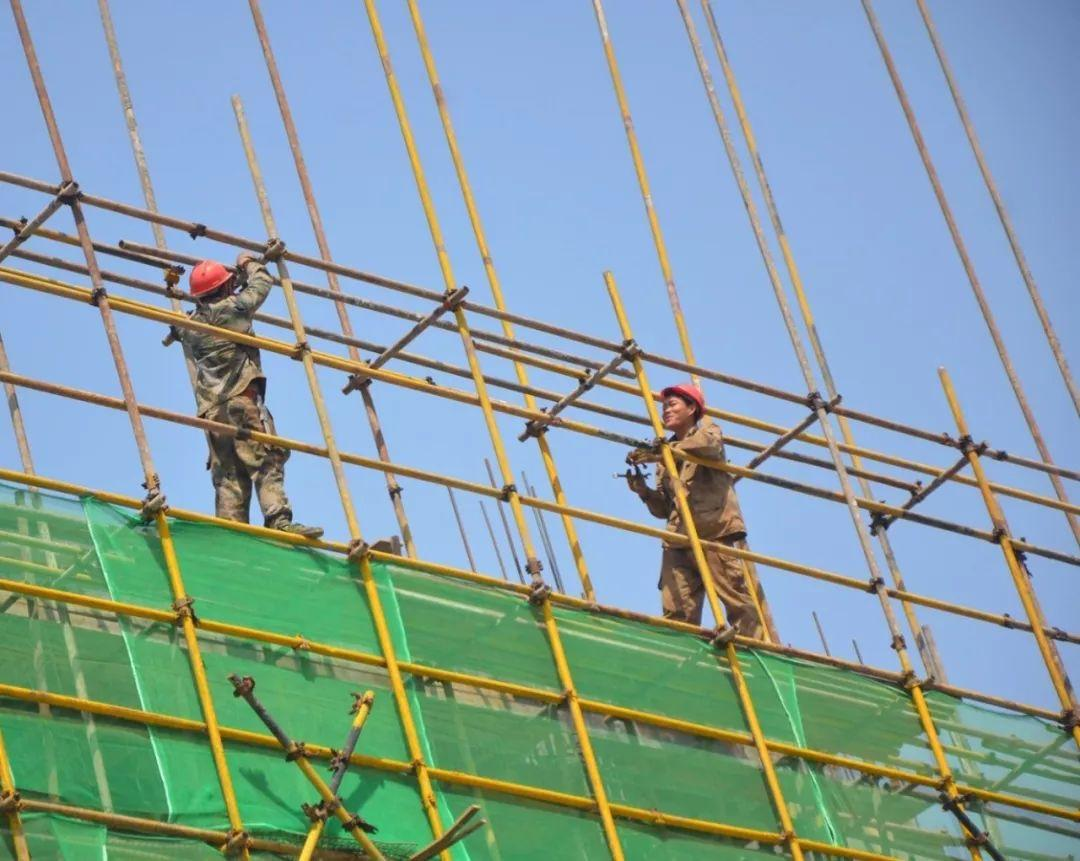helmet: (170, 248, 251, 304), (661, 380, 712, 420)
